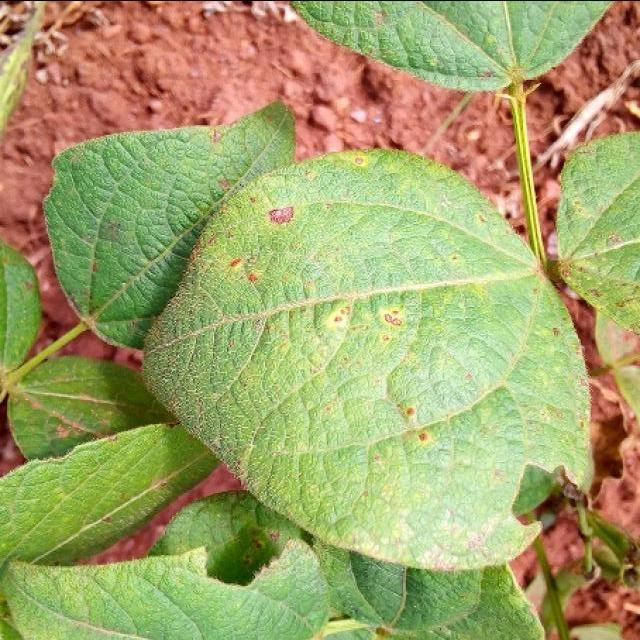mozaik: (450, 410, 589, 564)
